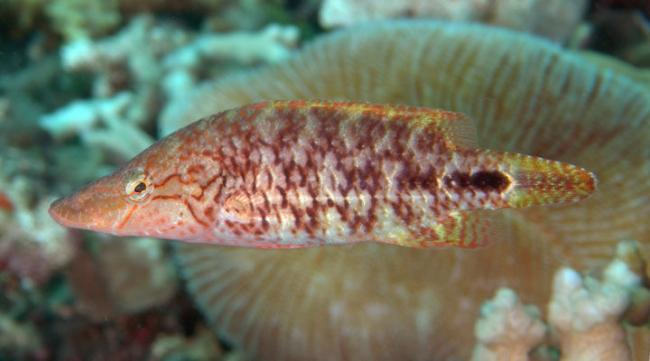fish: (49, 99, 598, 249)
